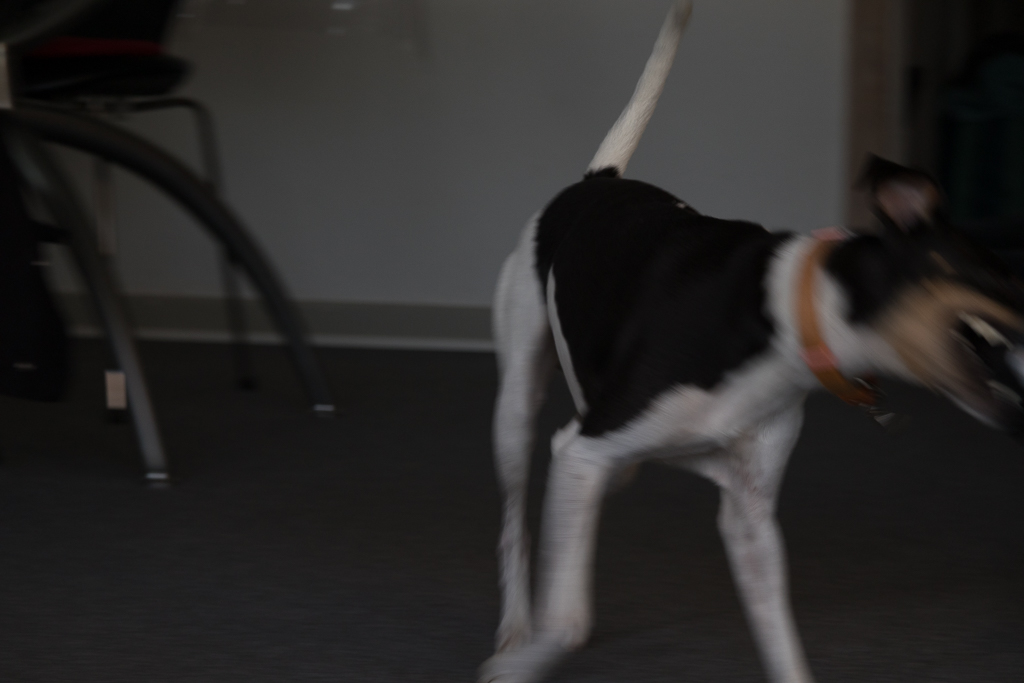Dog: (465, 0, 1024, 683)
